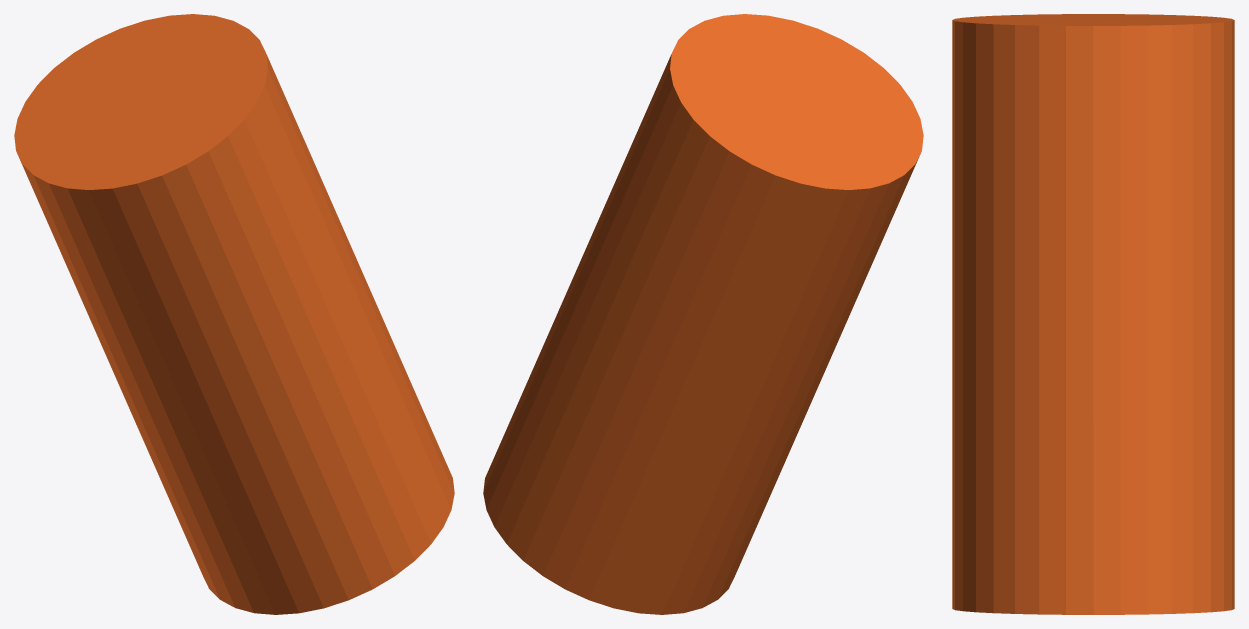
File: bonus.fbx
3 views of the same model, side by side, from view 1: azimuth 30°, elevation 25°; view 2: azimuth 150°, elevation 25°; view 3: azimuth 270°, elevation 25° (orthographic). The views are drawn at different scales.
Parts seen in each view (by area): view 1: Цилиндр; view 2: Цилиндр; view 3: Цилиндр.
Boxes of the visible parts, box(x1,y1,x2,y2) form: Цилиндр: box(14, 14, 454, 614); Цилиндр: box(483, 14, 923, 614); Цилиндр: box(952, 14, 1234, 614).
Size of the model in its own units: 142 by 191 by 82.45.
